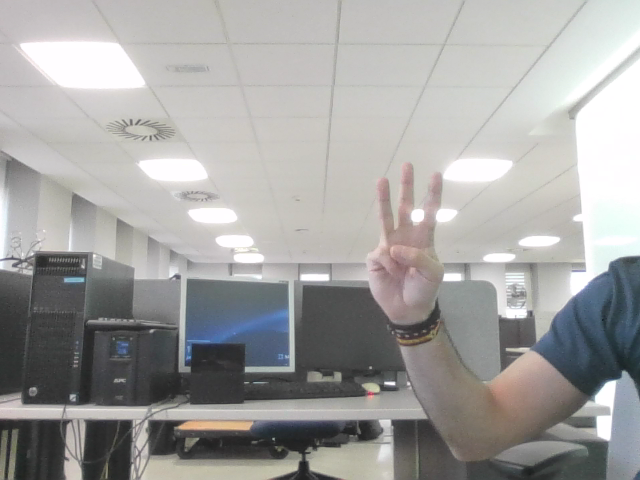3Dedos: (380, 175, 434, 290)
